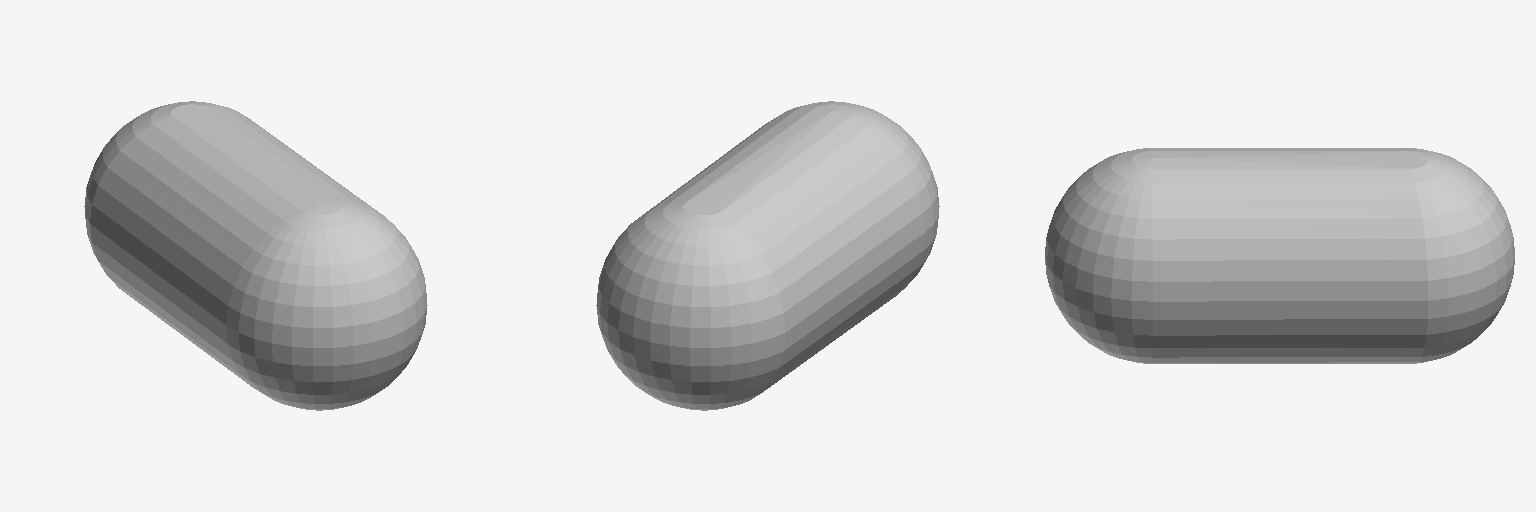
The model's file is ballll.obj.
3 views of the same model, side by side, from view 1: azimuth 30°, elevation 25°; view 2: azimuth 150°, elevation 25°; view 3: azimuth 270°, elevation 25° (orthographic).
Parts seen in each view (by area): view 1: Sphere; view 2: Sphere; view 3: Sphere.
Boxes of the visible parts, <box> form: Sphere: <box>84,101,427,410</box>; Sphere: <box>596,101,939,410</box>; Sphere: <box>1045,148,1514,363</box>.
Size of the model in its own units: 2 by 2 by 4.36.